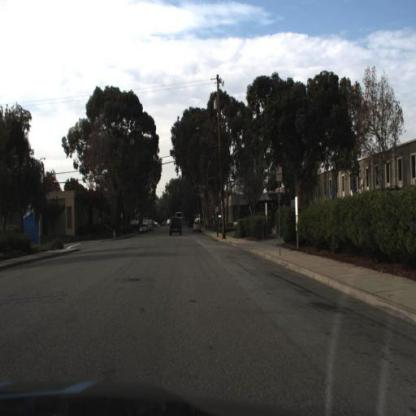car: (170, 216, 186, 239)
